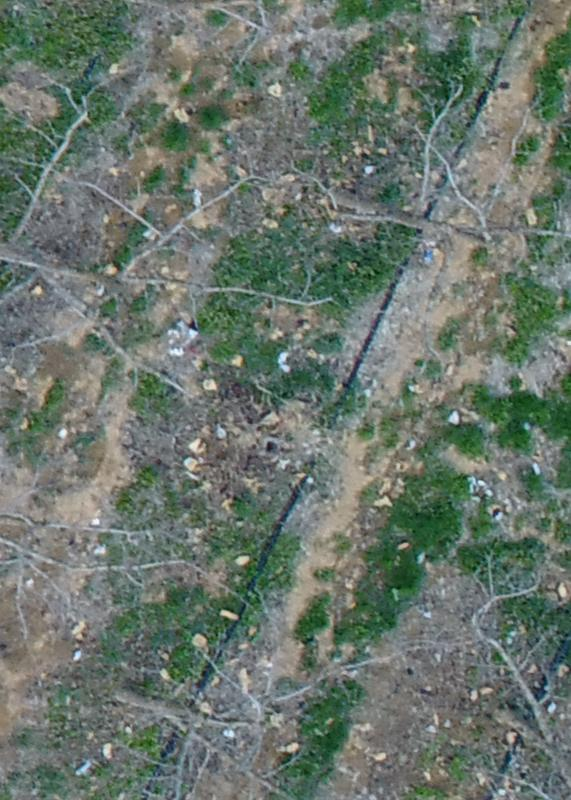apple: (10, 88, 333, 411), (277, 81, 561, 306), (56, 627, 412, 790), (10, 443, 263, 652)
